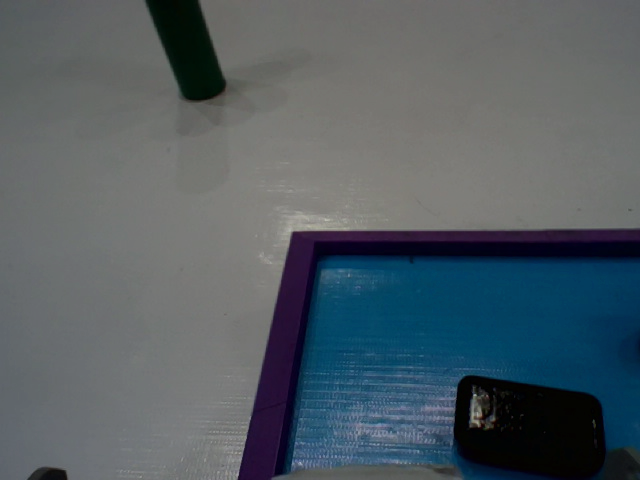black: (444, 374, 609, 470)
kuang: (236, 221, 640, 480)
zhuzi: (141, 1, 230, 100)
